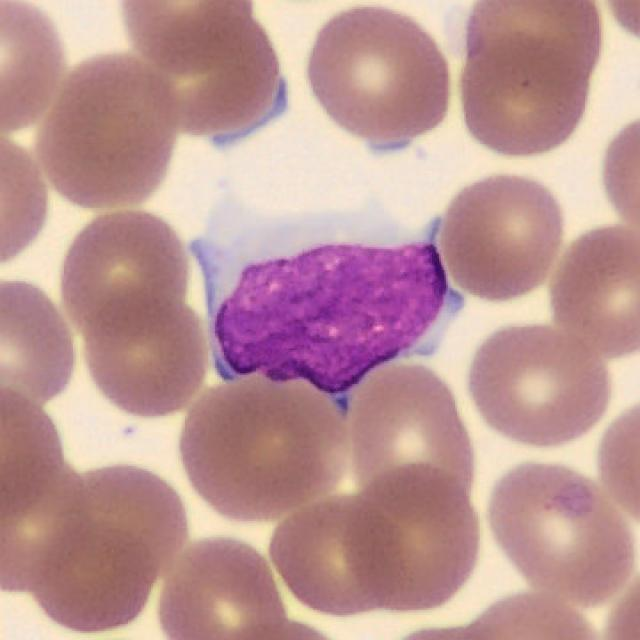Linfocito atipico: (190, 203, 468, 393)
